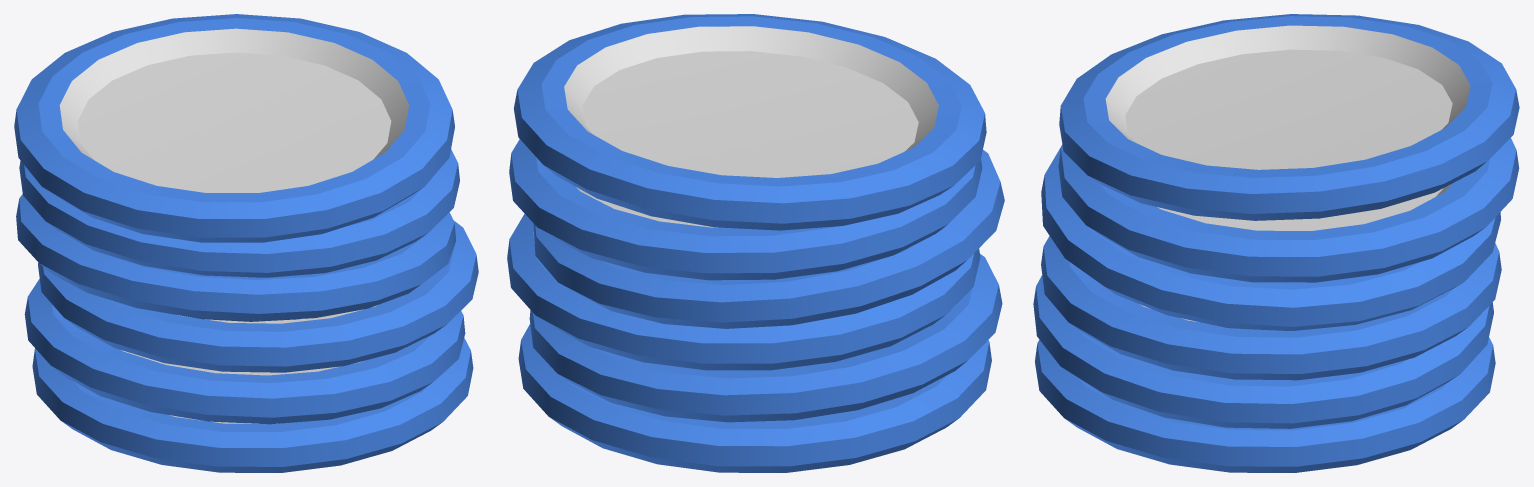
Rendered from Plate_2_B.glb.
3 renders of one model, left to right at view 1: azimuth 30°, elevation 25°; view 2: azimuth 150°, elevation 25°; view 3: azimuth 270°, elevation 25°, orthographic. The views are drawn at different scales.
Visible parts, largest first — view 1: Plate_2_B; view 2: Plate_2_B; view 3: Plate_2_B.
Boxes of the visible parts, x1,y1,x2,y2 form: Plate_2_B: (14, 14, 478, 472); Plate_2_B: (507, 14, 1004, 472); Plate_2_B: (1033, 14, 1519, 472).
Bounding box in the file's own units: 0.541 × 0.3779 × 0.54.
1 material, 1 textured.
